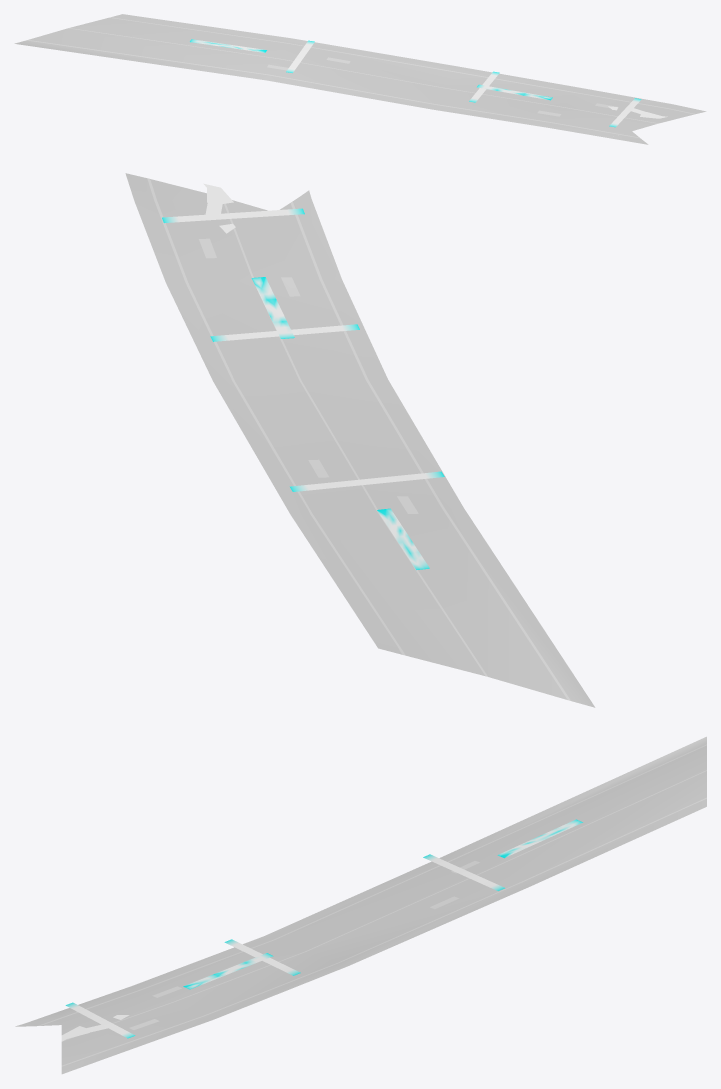
Rendered from cell_140_100.fbx.
3 renders of one model, top to bottom at view 1: azimuth 30°, elevation 25°; view 2: azimuth 150°, elevation 25°; view 3: azimuth 270°, elevation 25°, orthographic. The views are drawn at different scales.
Parts seen in each view (by area): view 1: SpaceCenter_Long3_GenerateRoad_Asphalt_Mesh_x87_y62_13808_HD, SpaceCenter_Long3_GenerateRoad_Asphalt_Mesh_x87_y63_13809_HD, SpaceCenter_Long3_GenerateRoad_Asphalt_PCGMesh_Decal_Mesh_x8, SpaceCenter_Long3_GenerateRoad_JTDecal_Asphalt_BM_Line_Mesh., SpaceCenter_Long3_GenerateRoad_Asphalt_Mesh_x88_y62_13966_HD; view 2: SpaceCenter_Long3_GenerateRoad_Asphalt_Mesh_x87_y62_13808_HD, SpaceCenter_Long3_GenerateRoad_Asphalt_Mesh_x87_y63_13809_HD, SpaceCenter_Long3_GenerateRoad_Asphalt_PCGMesh_Decal_Mesh_x8; view 3: SpaceCenter_Long3_GenerateRoad_Asphalt_Mesh_x87_y62_13808_HD, SpaceCenter_Long3_GenerateRoad_Asphalt_Mesh_x87_y63_13809_HD, SpaceCenter_Long3_GenerateRoad_Asphalt_PCGMesh_Decal_Mesh_x8.
Boxes of the visible parts, bbox=[...] form: SpaceCenter_Long3_GenerateRoad_Asphalt_Mesh_x87_y62_13808_HD: bbox=[14, 14, 631, 137]; SpaceCenter_Long3_GenerateRoad_Asphalt_Mesh_x87_y63_13809_HD: bbox=[578, 87, 706, 131]; SpaceCenter_Long3_GenerateRoad_Asphalt_PCGMesh_Decal_Mesh_x8: bbox=[190, 39, 623, 127]; SpaceCenter_Long3_GenerateRoad_JTDecal_Asphalt_BM_Line_Mesh.: bbox=[267, 57, 601, 116]; SpaceCenter_Long3_GenerateRoad_Asphalt_Mesh_x88_y62_13966_HD: bbox=[609, 131, 648, 144]; SpaceCenter_Long3_GenerateRoad_Asphalt_Mesh_x87_y62_13808_HD: bbox=[166, 215, 595, 707]; SpaceCenter_Long3_GenerateRoad_Asphalt_Mesh_x87_y63_13809_HD: bbox=[125, 173, 268, 283]; SpaceCenter_Long3_GenerateRoad_Asphalt_PCGMesh_Decal_Mesh_x8: bbox=[210, 208, 444, 569]; SpaceCenter_Long3_GenerateRoad_Asphalt_Mesh_x87_y62_13808_HD: bbox=[61, 736, 706, 1024]; SpaceCenter_Long3_GenerateRoad_Asphalt_Mesh_x87_y63_13809_HD: bbox=[61, 1019, 213, 1074]; SpaceCenter_Long3_GenerateRoad_Asphalt_PCGMesh_Decal_Mesh_x8: bbox=[65, 819, 582, 1015].
Bounding box in the file's own units: 74.9 × 3.14 × 68.73.
